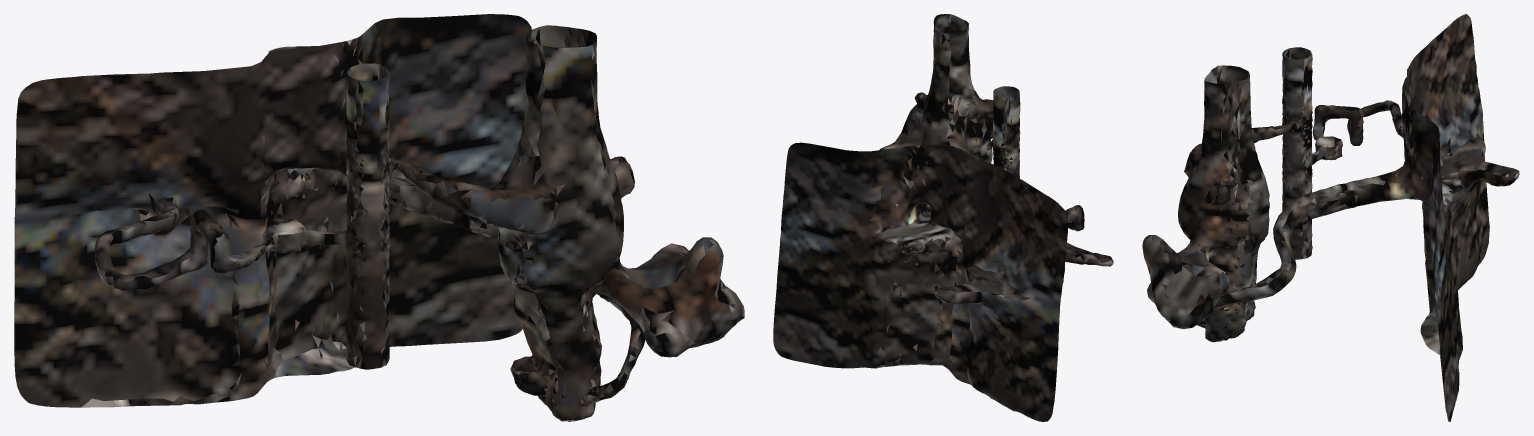
File: World1_Cave_12-7.fbx
The picture shows the model from 3 angles, left to right: view 1: azimuth 30°, elevation 25°; view 2: azimuth 150°, elevation 25°; view 3: azimuth 270°, elevation 25°; orthographic projection. The views are drawn at different scales.
Parts seen in each view (by area): view 1: Cave_World1_12/7.004, Cave_World1_12/7.006, Cave_World1_12/7, Cave_World1_12/7.003, Cave_World1_12/7.007, Cave_World1_12/7.002, Cave_World1_12/7.005, Cave_World1_12/7.001; view 2: Cave_World1_12/7.006, Cave_World1_12/7.004, Cave_World1_12/7, Cave_World1_12/7.003, Cave_World1_12/7.002, Cave_World1_12/7.007, Cave_World1_12/7.005; view 3: Cave_World1_12/7, Cave_World1_12/7.004, Cave_World1_12/7.006, Cave_World1_12/7.007, Cave_World1_12/7.003, Cave_World1_12/7.005, Cave_World1_12/7.002, Cave_World1_12/7.001.
Part boxes in pixels (box(x1,y1,x2,y2)): Cave_World1_12/7.004: box(14, 53, 268, 407); Cave_World1_12/7.006: box(253, 14, 531, 395); Cave_World1_12/7: box(493, 25, 634, 421); Cave_World1_12/7.003: box(327, 63, 397, 369); Cave_World1_12/7.007: box(604, 237, 744, 357); Cave_World1_12/7.002: box(95, 208, 329, 291); Cave_World1_12/7.005: box(343, 147, 645, 404); Cave_World1_12/7.001: box(393, 159, 516, 230); Cave_World1_12/7.006: box(773, 142, 967, 379); Cave_World1_12/7.004: box(934, 154, 1067, 421); Cave_World1_12/7: box(914, 14, 993, 163); Cave_World1_12/7.003: box(993, 86, 1020, 178); Cave_World1_12/7.002: box(1065, 205, 1113, 266); Cave_World1_12/7.007: box(879, 104, 922, 150); Cave_World1_12/7.005: box(912, 204, 930, 224); Cave_World1_12/7: box(1178, 65, 1269, 342); Cave_World1_12/7.004: box(1407, 14, 1519, 289); Cave_World1_12/7.006: box(1399, 72, 1464, 421); Cave_World1_12/7.007: box(1142, 235, 1230, 329); Cave_World1_12/7.003: box(1282, 47, 1315, 259); Cave_World1_12/7.005: box(1197, 169, 1399, 326); Cave_World1_12/7.002: box(1312, 100, 1403, 162); Cave_World1_12/7.001: box(1251, 123, 1295, 143).
Bounding box in the file's own units: 62126 × 52330 × 57602.
